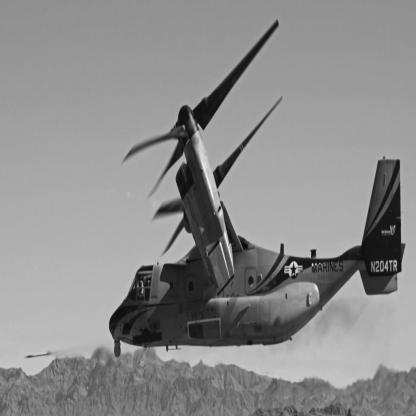V22: (109, 20, 407, 358)
